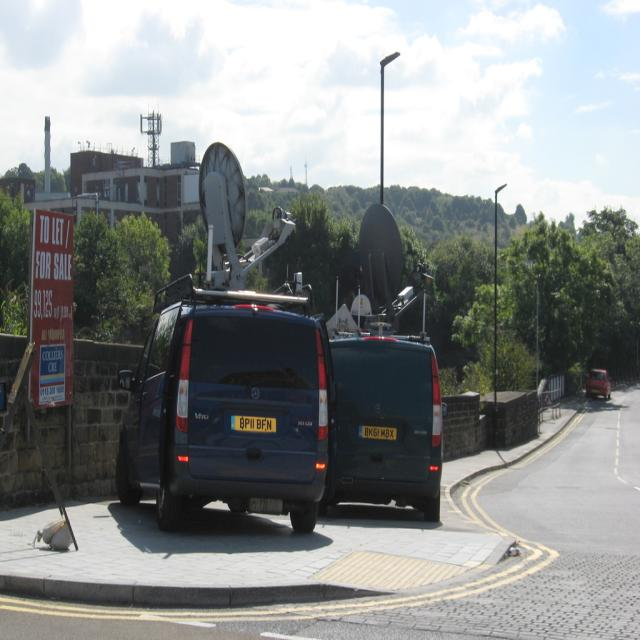car: (585, 367, 611, 398)
